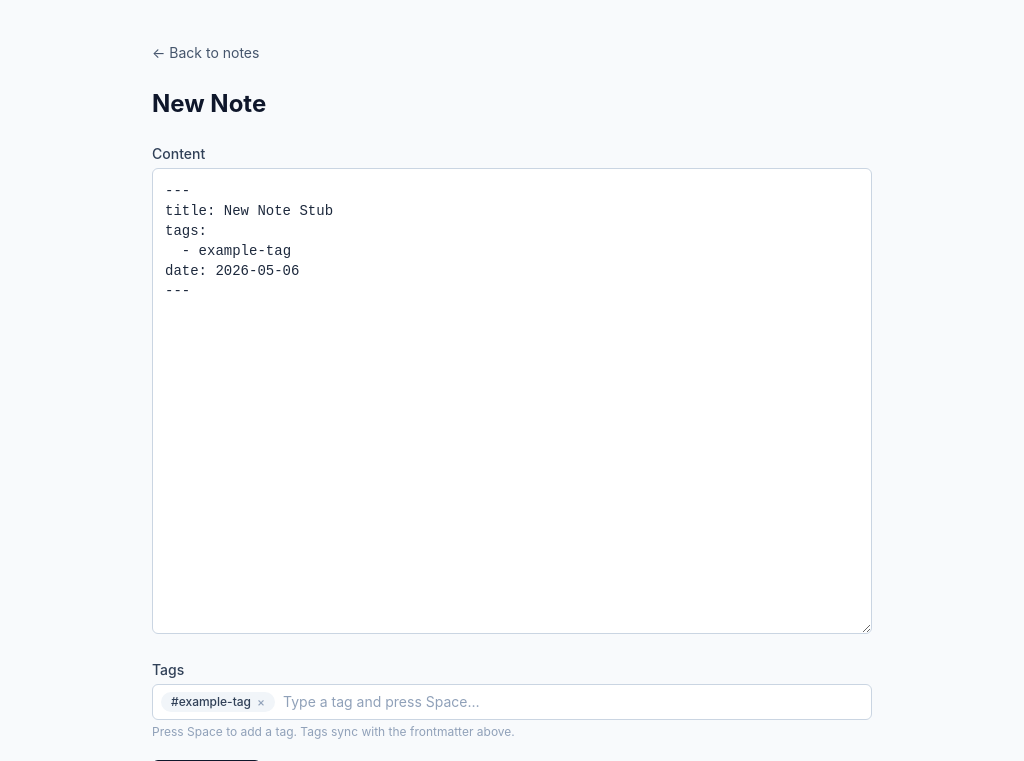
NewNotePage component › creates a tag pill on spacebar press
This screenshot has width=1024, height=761.
In the field with placeholder "Type a tag and press Space…": (573, 702) [283,692,863,712], type "new-tag"
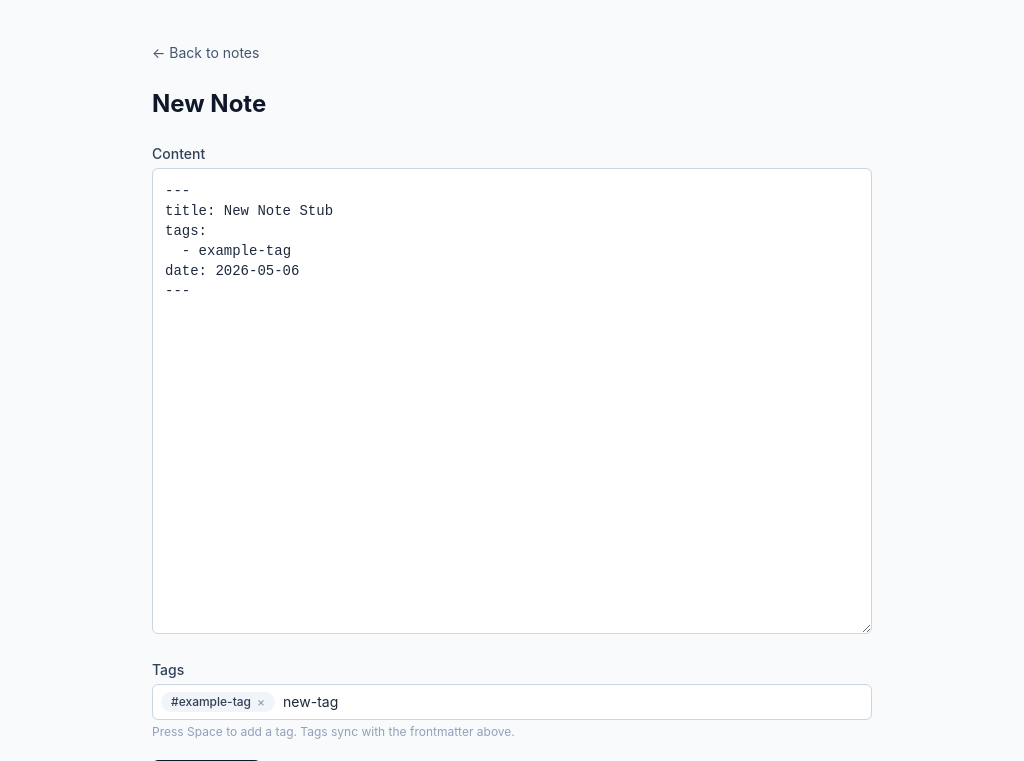
Press Space in the field with placeholder "Type a tag and press Space…", box [283,692,863,712]
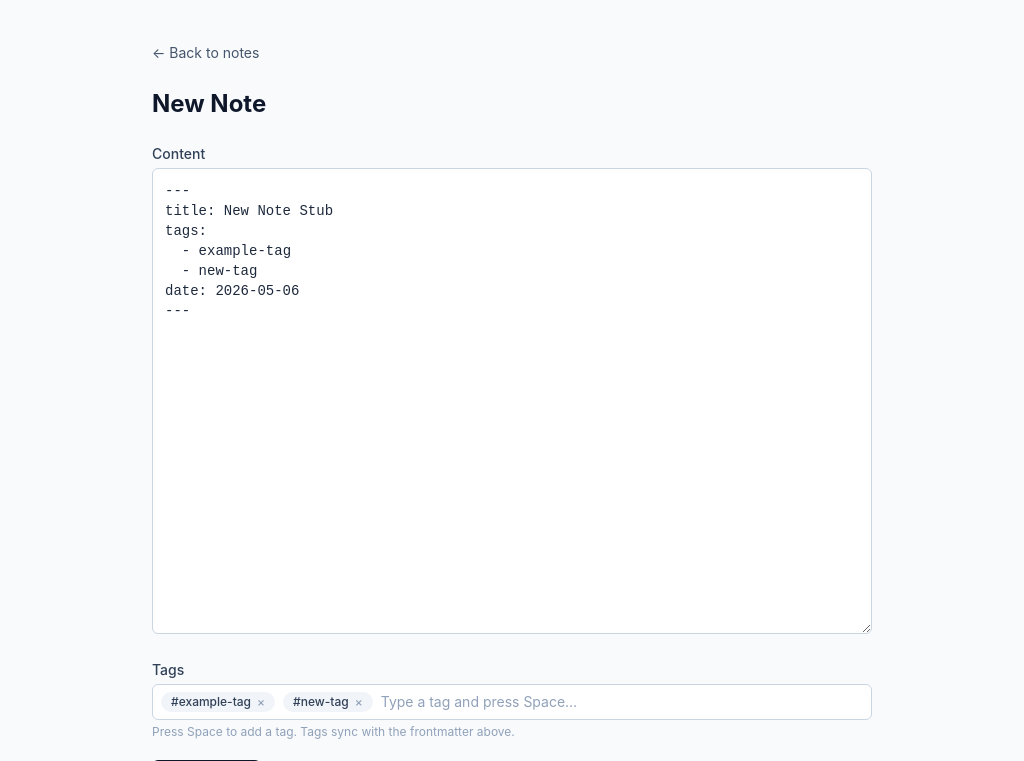
Expected: the text "#new-tag" is shown, [283,692,373,712]
Expected: the field with placeholder "Type a tag and press Space…" is empty, [381,692,863,712]
